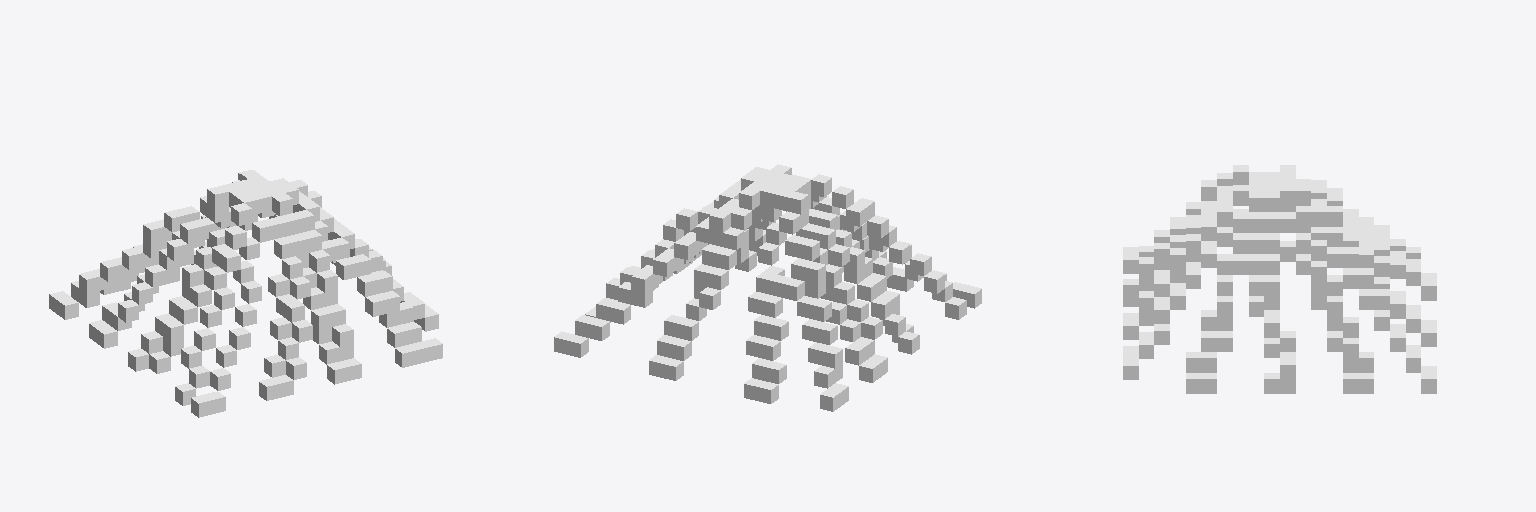
The model's file is Campfire.obj.
3 renders of one model, left to right at view 1: azimuth 30°, elevation 25°; view 2: azimuth 150°, elevation 25°; view 3: azimuth 270°, elevation 25°, orthographic.
Parts seen in each view (by area): view 1: object 1; view 2: object 1; view 3: object 1.
Part boxes in pixels (x1,y1,x2,y2): object 1: (49,170,442,417); object 1: (554,164,981,411); object 1: (1123,165,1436,393).
Bounding box in the file's own units: 2 × 1 × 2.